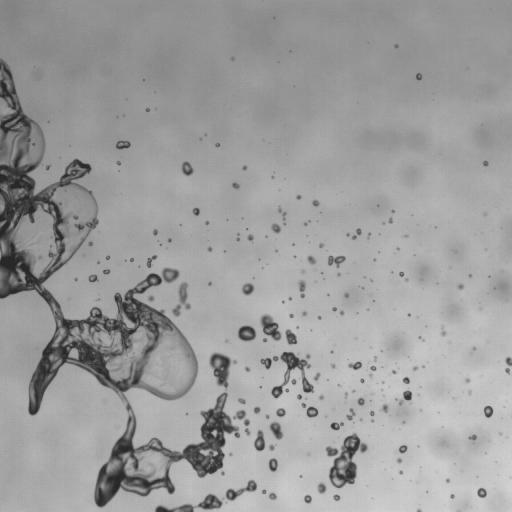droplet: (260, 352, 313, 398), (325, 433, 368, 488), (209, 352, 236, 388), (260, 314, 281, 340), (237, 325, 256, 341), (269, 422, 283, 439), (254, 430, 265, 451), (328, 255, 345, 267), (398, 390, 412, 404), (181, 161, 193, 175), (285, 329, 296, 344), (242, 283, 254, 295), (348, 361, 362, 370), (268, 458, 277, 471), (116, 141, 130, 149), (484, 405, 493, 417), (330, 422, 343, 430), (271, 223, 281, 233), (317, 482, 326, 493), (346, 408, 354, 420), (307, 255, 316, 264), (276, 408, 285, 417), (477, 488, 486, 497), (88, 274, 98, 282), (380, 403, 388, 412), (398, 445, 407, 453), (268, 492, 276, 500), (304, 494, 311, 503), (440, 326, 446, 336), (313, 372, 320, 380), (357, 397, 364, 405), (192, 208, 199, 215), (253, 406, 260, 413), (232, 182, 239, 188), (312, 200, 319, 206), (247, 234, 253, 241), (402, 377, 409, 383), (148, 295, 154, 301), (269, 444, 275, 450), (333, 494, 339, 500), (103, 269, 110, 274), (238, 398, 245, 403), (469, 434, 476, 439), (416, 73, 421, 79), (483, 161, 488, 166), (458, 284, 463, 289), (465, 378, 470, 383), (153, 229, 157, 235), (296, 195, 301, 199), (207, 247, 212, 251), (399, 272, 404, 276), (302, 311, 306, 316), (245, 366, 249, 371), (297, 394, 301, 399), (318, 395, 323, 399), (397, 458, 401, 463), (46, 165, 50, 169), (242, 166, 246, 170), (319, 243, 323, 247), (344, 293, 348, 297), (332, 307, 336, 311), (263, 338, 267, 342), (331, 364, 335, 368), (413, 366, 417, 370), (392, 370, 396, 374), (370, 411, 374, 415), (265, 414, 269, 418), (450, 494, 454, 498), (389, 218, 392, 223), (117, 161, 120, 165), (304, 222, 308, 225), (367, 233, 370, 237), (88, 242, 92, 245), (340, 310, 343, 314), (360, 379, 364, 382), (344, 393, 347, 397), (399, 470, 402, 474), (446, 478, 449, 482), (262, 490, 266, 493), (146, 108, 149, 111), (216, 143, 219, 146), (205, 221, 208, 224), (106, 256, 109, 259), (301, 270, 304, 273), (405, 278, 408, 281), (289, 314, 292, 317), (318, 316, 321, 319), (472, 347, 475, 350), (468, 391, 471, 394), (221, 471, 224, 474), (395, 44, 397, 47), (168, 239, 171, 241), (236, 238, 239, 240), (337, 273, 340, 275), (74, 278, 77, 280), (289, 297, 291, 300), (419, 337, 422, 339), (374, 357, 376, 360), (392, 210, 394, 212), (408, 314, 410, 316), (225, 340, 227, 342), (352, 390, 354, 392), (371, 420, 373, 422), (499, 432, 501, 434), (299, 475, 301, 477)
ligament: (0, 58, 249, 505), (154, 480, 257, 511), (172, 282, 190, 316), (301, 403, 318, 417), (298, 280, 305, 298), (146, 255, 156, 267), (505, 357, 511, 374), (352, 228, 361, 239), (278, 207, 285, 218), (369, 366, 376, 377), (416, 509, 422, 511)
